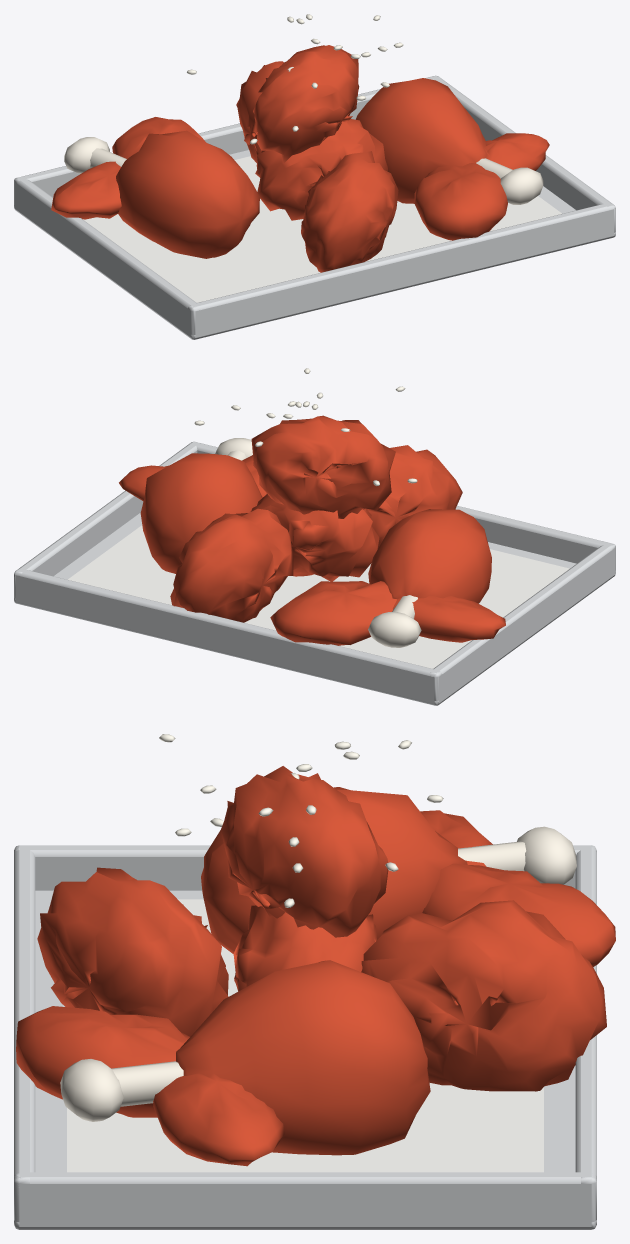
Rendered from Chicken_Yangnyeom.fbx.
The picture shows the model from 3 angles, top to bottom: view 1: azimuth 30°, elevation 25°; view 2: azimuth 150°, elevation 25°; view 3: azimuth 270°, elevation 25°; orthographic projection. The views are drawn at different scales.
Parts seen in each view (by area): view 1: Chicken_Yangnyeom; view 2: Chicken_Yangnyeom; view 3: Chicken_Yangnyeom.
Boxes of the visible parts, left/top/right/bottom form: Chicken_Yangnyeom: left=14, top=14, right=615, bottom=339; Chicken_Yangnyeom: left=14, top=368, right=615, bottom=705; Chicken_Yangnyeom: left=14, top=734, right=615, bottom=1229.
Bounding box in the file's own units: 0.3093 × 0.1368 × 0.2272.
